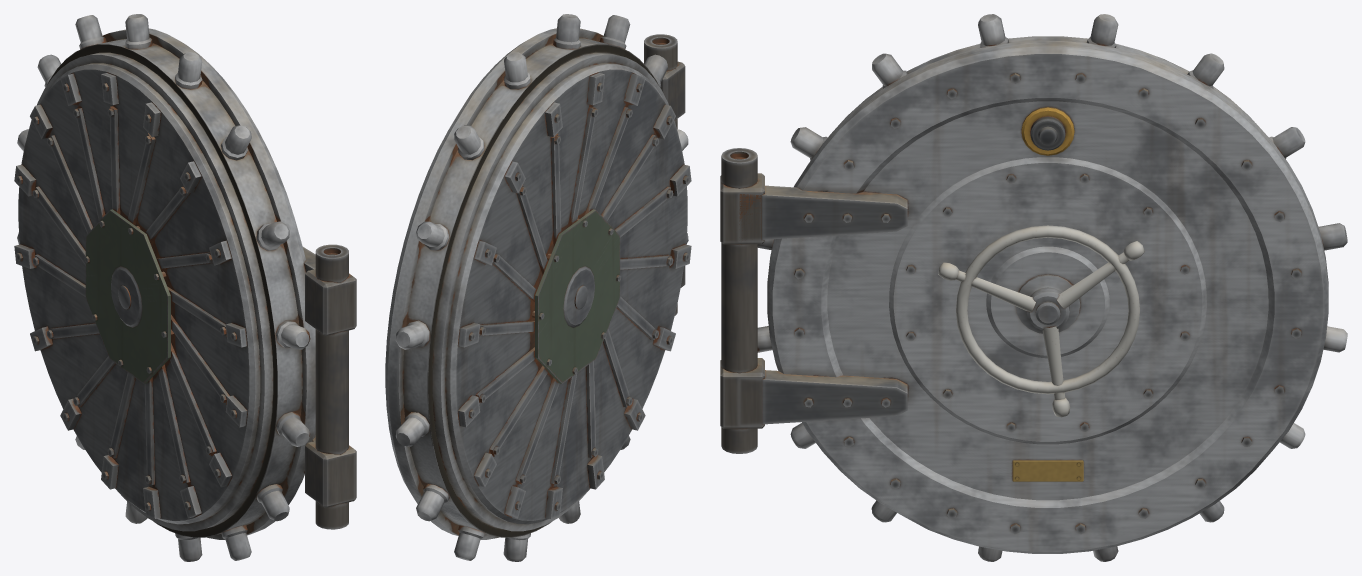
Rendered from SM_VaultDoor_Open.fbx.
3 views of the same model, side by side, from view 1: azimuth 30°, elevation 25°; view 2: azimuth 150°, elevation 25°; view 3: azimuth 270°, elevation 25° (orthographic). The views are drawn at different scales.
Visible parts, largest first — view 1: SM_VaultDoor_Open; view 2: SM_VaultDoor_Open; view 3: SM_VaultDoor_Open.
Boxes of the visible parts, box(x1,y1,x2,y2) form: SM_VaultDoor_Open: box(14, 14, 356, 561); SM_VaultDoor_Open: box(385, 14, 691, 561); SM_VaultDoor_Open: box(720, 14, 1347, 561).
Size of what is drawn, in the model's own units: 73.1 by 389 by 407.
1 material, 1 textured.
